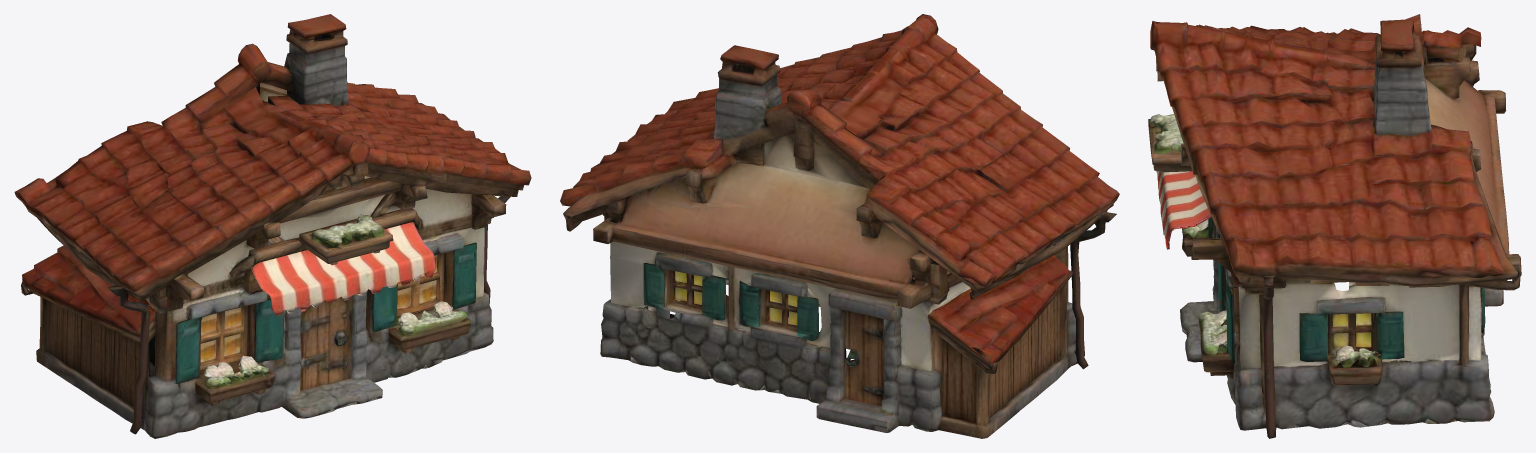
File: candidate.glb
The picture shows the model from 3 angles, left to right: view 1: azimuth 30°, elevation 25°; view 2: azimuth 150°, elevation 25°; view 3: azimuth 270°, elevation 25°; orthographic projection. The views are drawn at different scales.
Visible parts, largest first — view 1: alpine__shop_1__native_mobile; view 2: alpine__shop_1__native_mobile; view 3: alpine__shop_1__native_mobile.
Boxes of the visible parts, x1,y1,x2,y2 form: alpine__shop_1__native_mobile: [14, 14, 531, 438]; alpine__shop_1__native_mobile: [560, 14, 1119, 438]; alpine__shop_1__native_mobile: [1148, 14, 1521, 438].
Bounding box in the file's own units: 1 × 0.6709 × 0.6551.
1 material, 1 textured.
